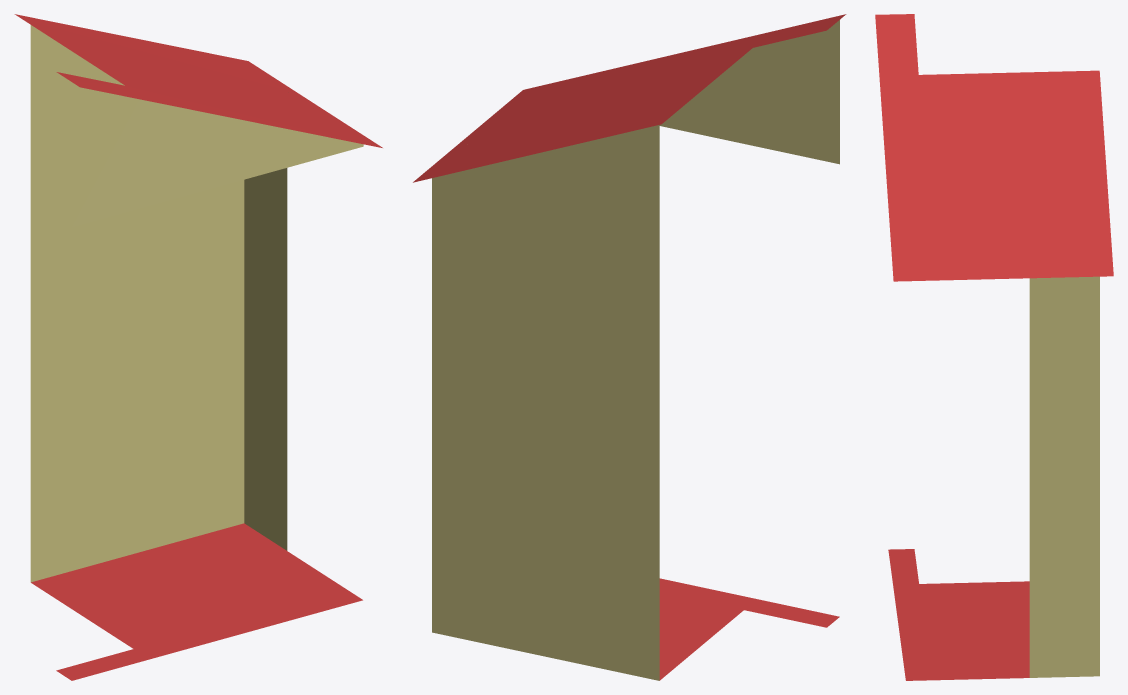
3 views of the same model, side by side, from view 1: azimuth 30°, elevation 25°; view 2: azimuth 150°, elevation 25°; view 3: azimuth 270°, elevation 25° (orthographic). The views are drawn at different scales.
Size of the model in its own units: 6.21 by 4.55 by 11.25.
